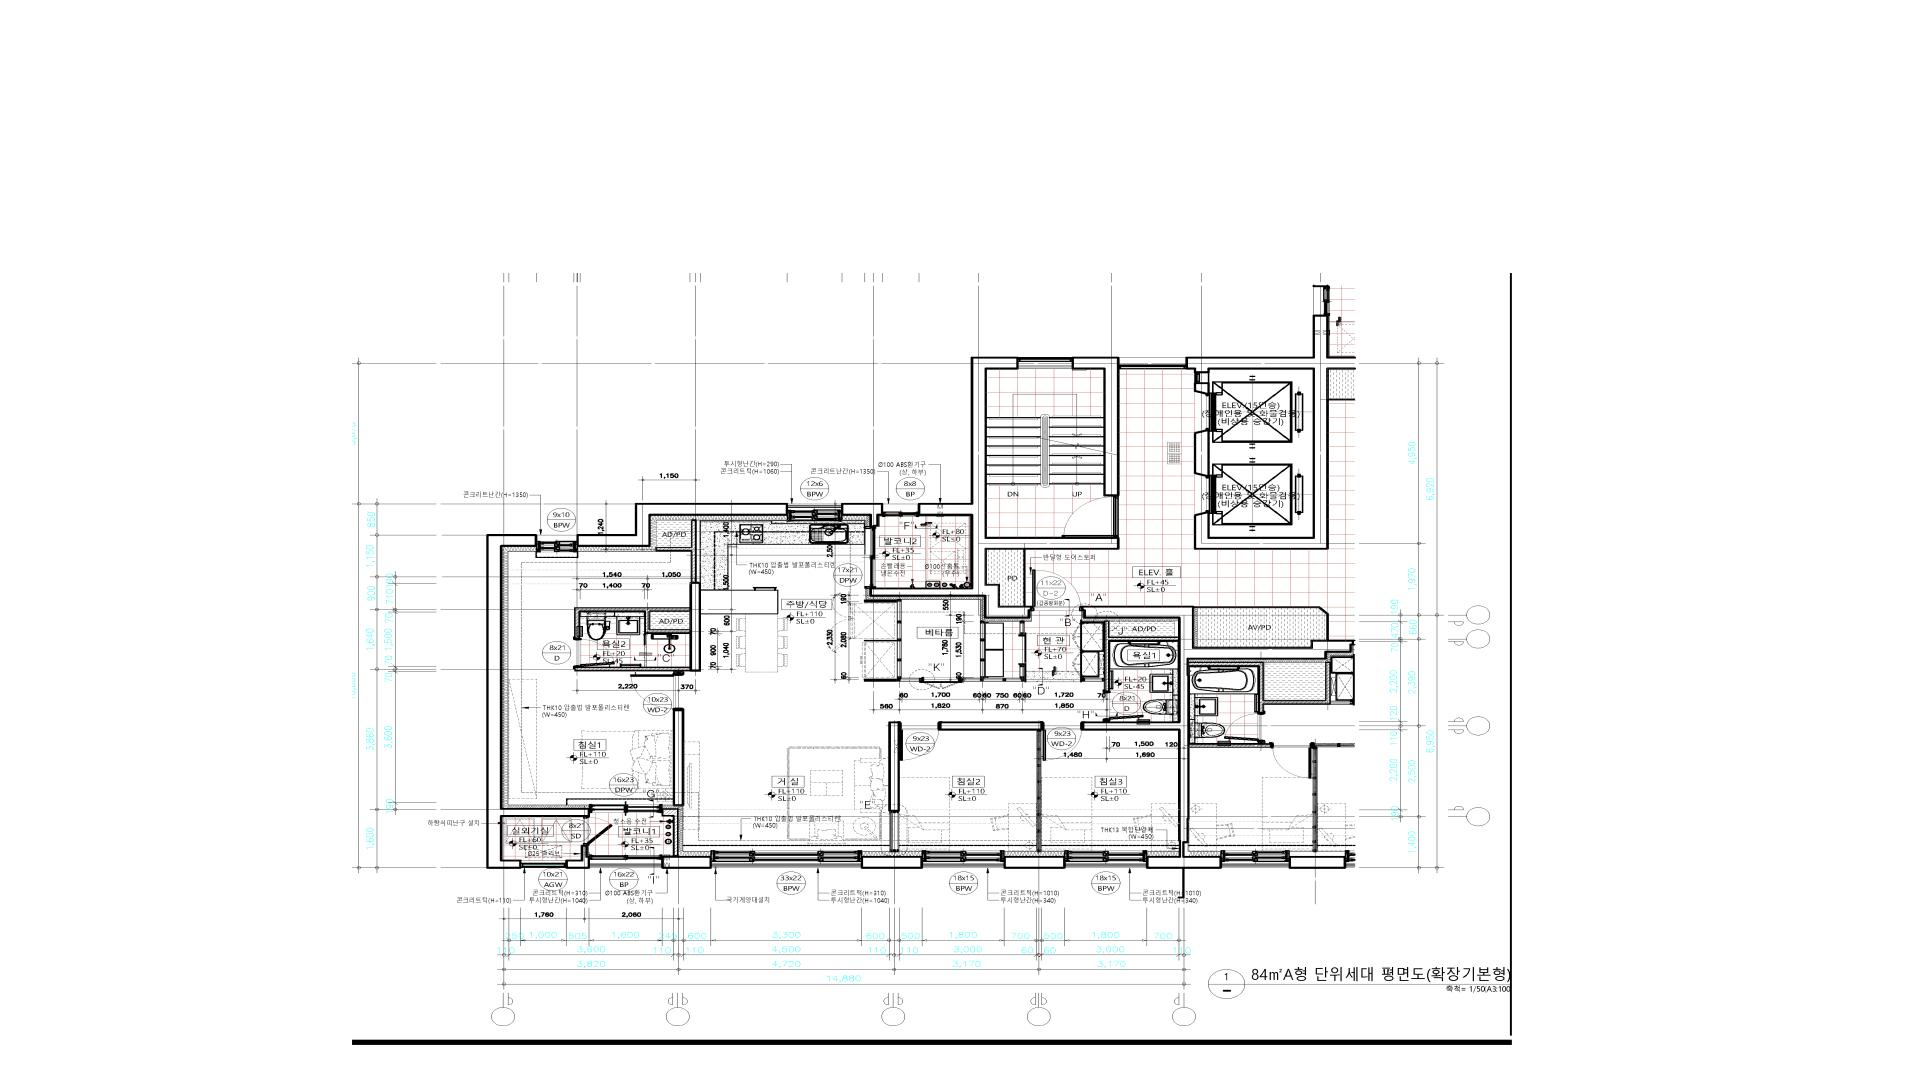door: (1061, 497, 1120, 536), (1032, 568, 1081, 608), (630, 672, 685, 707), (1041, 721, 1082, 761), (901, 721, 940, 761), (574, 638, 617, 667), (1103, 692, 1144, 721), (583, 817, 613, 845), (919, 677, 963, 689)
wall: (1082, 606, 1354, 869), (869, 357, 1120, 619), (485, 533, 590, 869), (1185, 356, 1330, 550), (574, 519, 701, 672), (940, 721, 1042, 852), (577, 503, 788, 547), (1071, 356, 1120, 496), (1082, 621, 1178, 692), (1194, 606, 1329, 640), (963, 621, 1026, 682), (574, 607, 689, 638), (897, 599, 919, 682), (888, 721, 901, 852), (673, 708, 684, 807), (841, 503, 883, 526), (662, 808, 679, 856), (1194, 428, 1210, 478), (861, 856, 921, 869), (1005, 856, 1064, 869), (661, 856, 712, 869), (565, 844, 590, 869), (1023, 550, 1026, 606), (1019, 621, 1025, 633)
window: (711, 850, 861, 869), (921, 850, 1005, 869), (1064, 850, 1147, 868), (787, 504, 841, 522), (589, 855, 661, 868), (1120, 358, 1185, 370), (864, 526, 876, 588), (536, 535, 577, 553), (1019, 357, 1071, 370), (590, 804, 662, 813), (883, 504, 918, 517), (521, 860, 565, 868)
